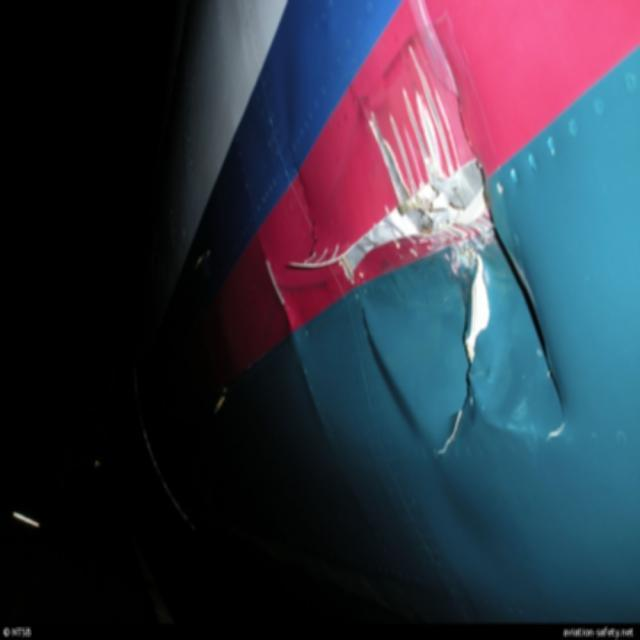crack: (434, 252, 492, 460)
dent: (362, 309, 434, 455), (488, 339, 536, 421), (487, 262, 520, 342)
